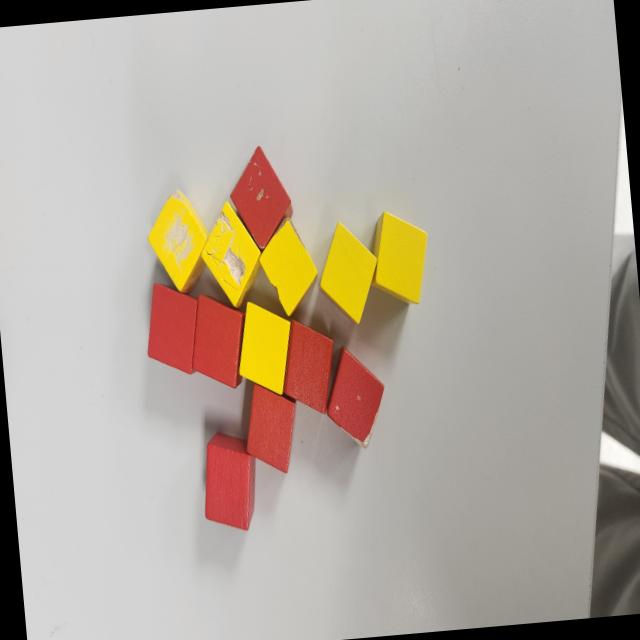broken: (195, 193, 267, 312), (144, 185, 214, 298), (320, 342, 390, 453), (226, 142, 294, 252), (254, 212, 320, 319)
red: (197, 426, 262, 534), (187, 287, 252, 393), (140, 277, 203, 382), (240, 378, 303, 480), (278, 315, 340, 416)
yellow: (314, 218, 384, 330), (366, 205, 434, 312), (232, 294, 296, 399)
